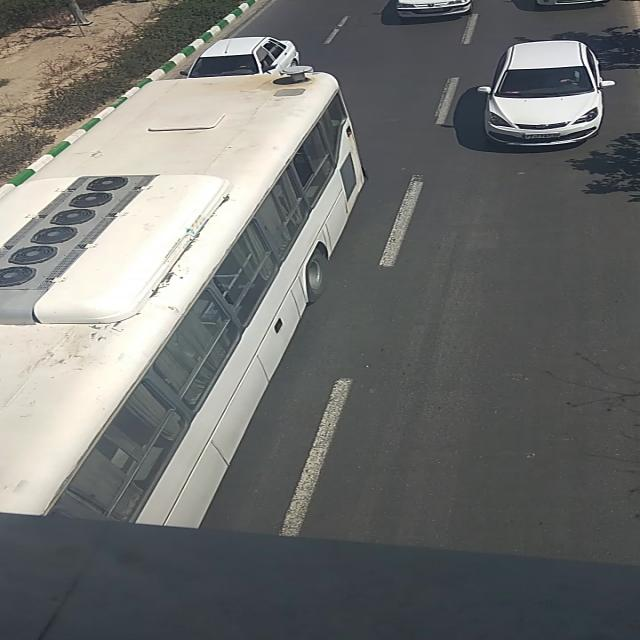bus: (0, 70, 367, 528)
car: (478, 41, 614, 147), (179, 37, 301, 78), (396, 0, 476, 20)
